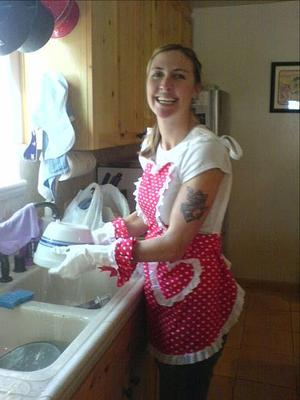person: (50, 44, 247, 400)
